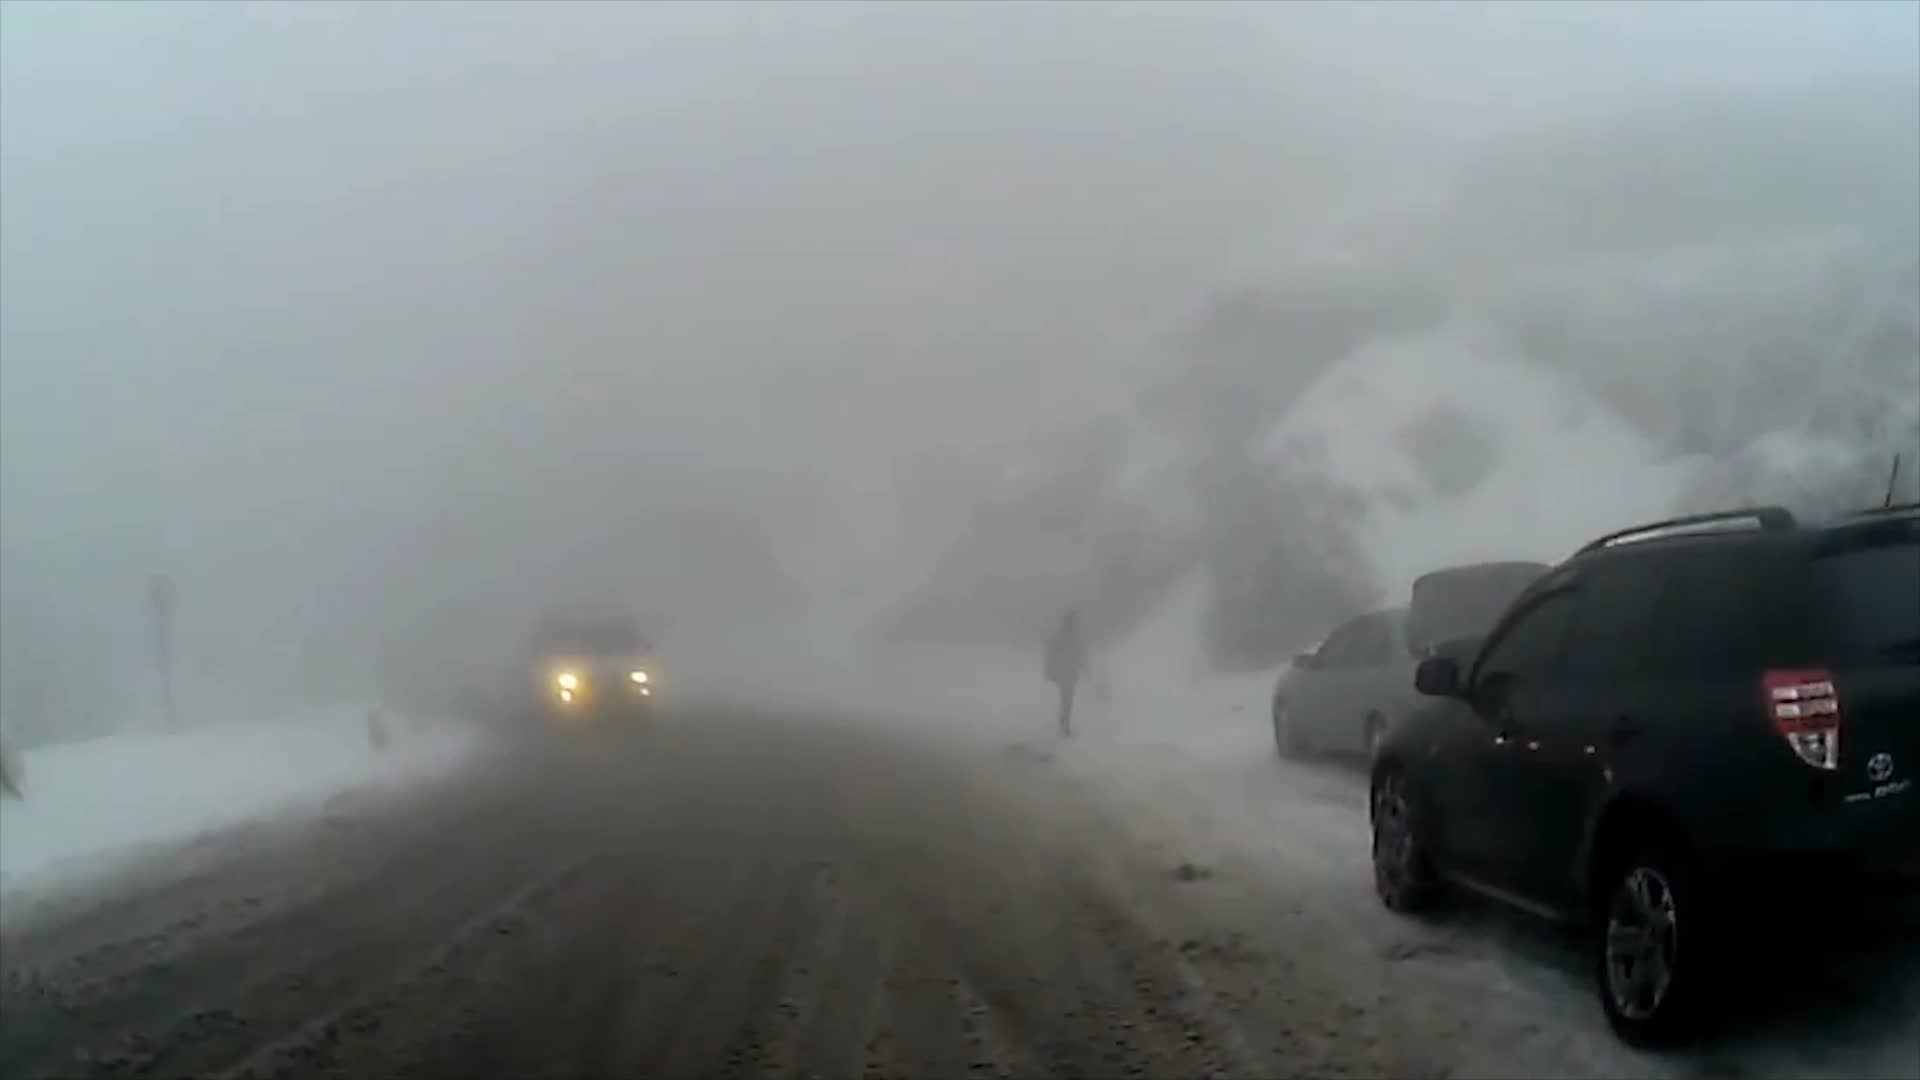pedestrian: (1041, 612, 1089, 733)
vehicle: (1368, 500, 1920, 1052), (1268, 559, 1599, 777), (524, 592, 660, 722)
